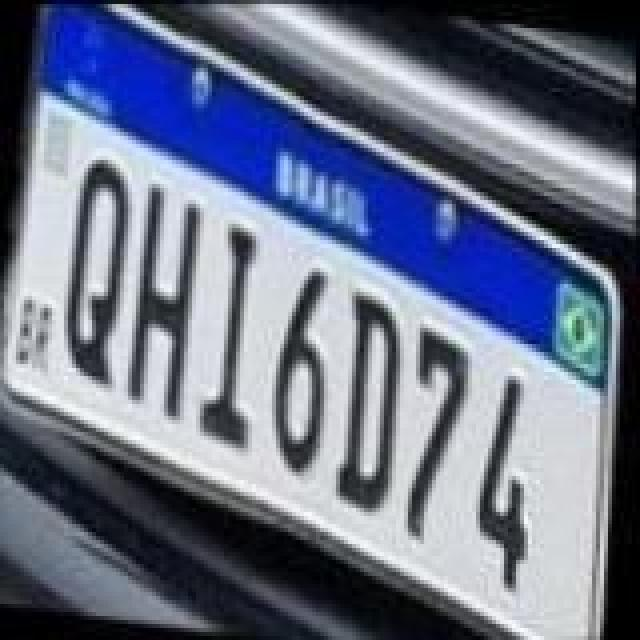4: (462, 366, 554, 590)
6: (258, 262, 346, 478)
7: (392, 320, 480, 544)
D: (322, 288, 422, 516)
H: (116, 176, 216, 420)
I: (190, 224, 278, 456)
Q: (50, 154, 146, 390)
